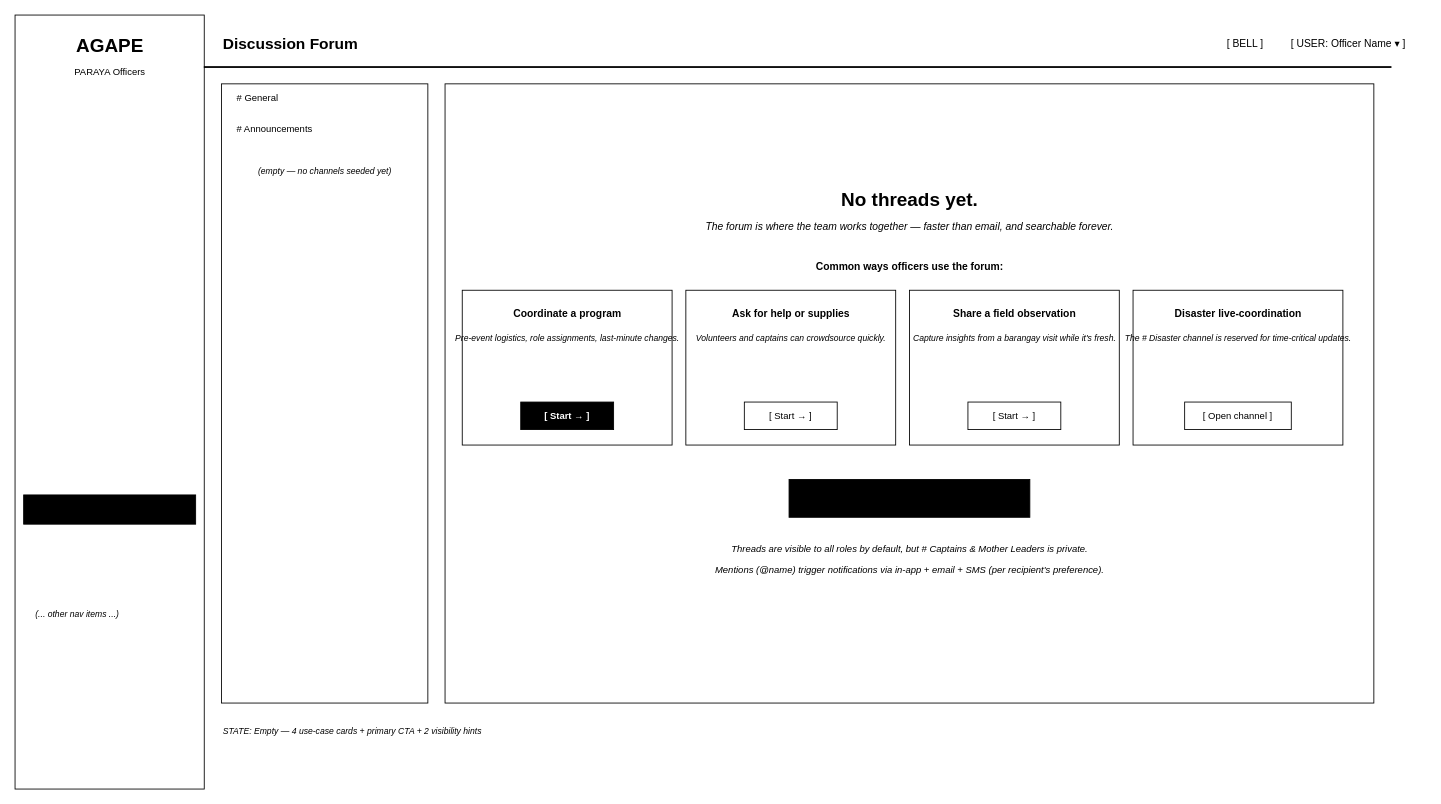
The diagram is 1441 pixels wide and 804 high, and some of its shapes have lost their labels. The centre of each missing label's shape, as x and y in pixels:
"[ + Start your first thread ]" belongs at (909,498).
"[x] Forum" belongs at (109,509).
